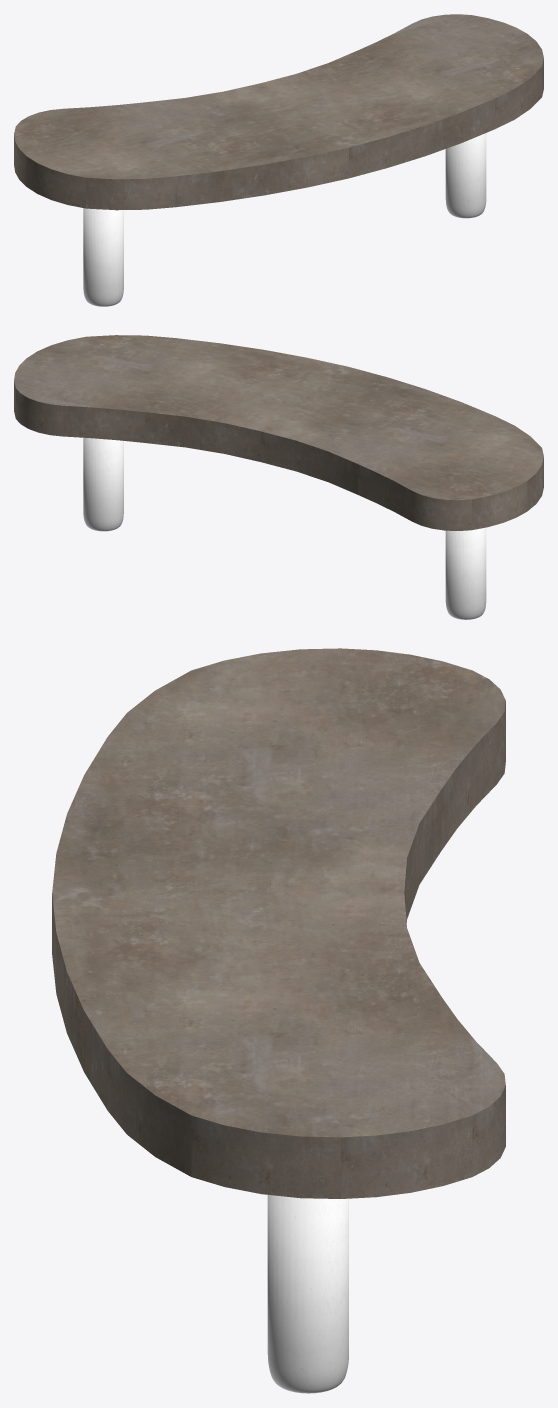
File: mesa_5.fbx
3 views of the same model, one above another, from view 1: azimuth 30°, elevation 25°; view 2: azimuth 150°, elevation 25°; view 3: azimuth 270°, elevation 25° (orthographic). The views are drawn at different scales.
Visible parts, largest first — view 1: mesa vr 2 v1, Cylinder; view 2: mesa vr 2 v1, Cylinder; view 3: mesa vr 2 v1, Cylinder.
Boxes of the visible parts, x1=… form: mesa vr 2 v1: x1=14, y1=14, x2=543, y2=210; Cylinder: x1=83, y1=133, x2=486, y2=306; mesa vr 2 v1: x1=14, y1=335, x2=543, y2=530; Cylinder: x1=83, y1=437, x2=486, y2=619; mesa vr 2 v1: x1=52, y1=648, x2=505, y2=1198; Cylinder: x1=267, y1=1195, x2=348, y2=1393.
Size of the model in its own units: 4.12 by 1.61 by 1.22.
2 materials, 2 textured.
